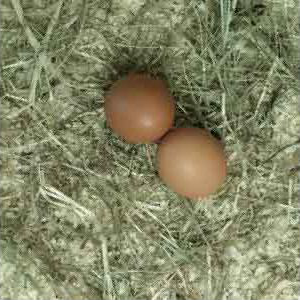egg: (155, 125, 228, 198), (104, 73, 176, 145)
